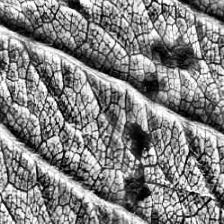Angular Leafspot: (0, 0, 210, 216)
